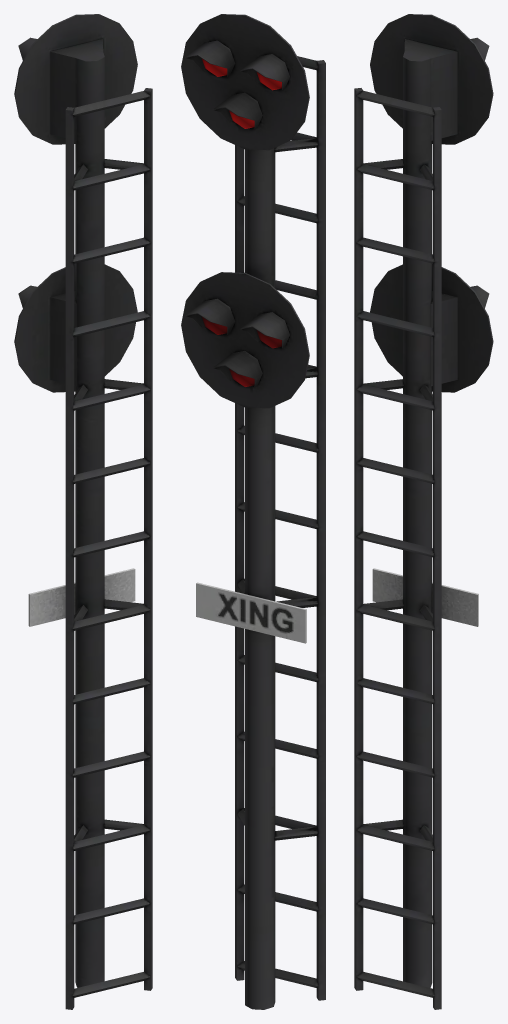
3 renders of one model, left to right at view 1: azimuth 30°, elevation 25°; view 2: azimuth 150°, elevation 25°; view 3: azimuth 330°, elevation 25°, orthographic. The views are drawn at different scales.
Parts seen in each view (by area): view 1: body0_model0_lod0_mesh0; view 2: body0_model0_lod0_mesh0; view 3: body0_model0_lod0_mesh0.
Boxes of the visible parts, bbox=[...] form: body0_model0_lod0_mesh0: bbox=[14, 14, 152, 1009]; body0_model0_lod0_mesh0: bbox=[181, 14, 325, 1009]; body0_model0_lod0_mesh0: bbox=[354, 14, 493, 1009].
Bounding box in the file's own units: 3.5 × 26.12 × 2.73.
Materials: 1 (1 with a texture image).
